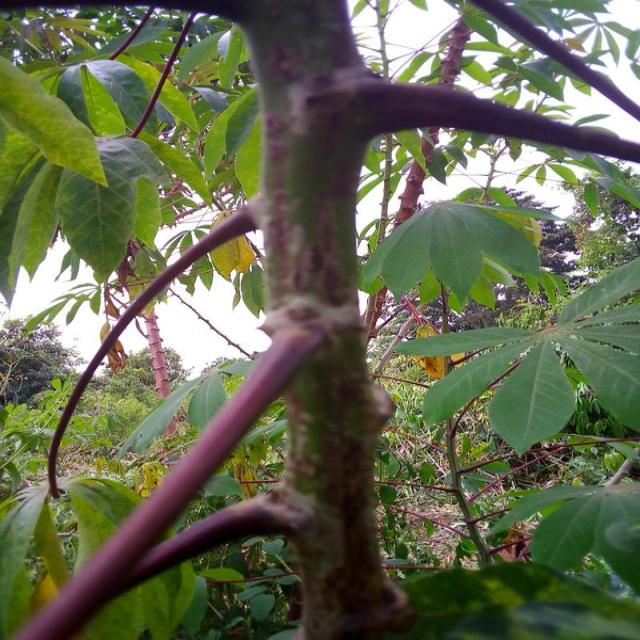cassava leaf: (361, 198, 543, 312), (55, 133, 169, 284), (488, 332, 578, 458)
